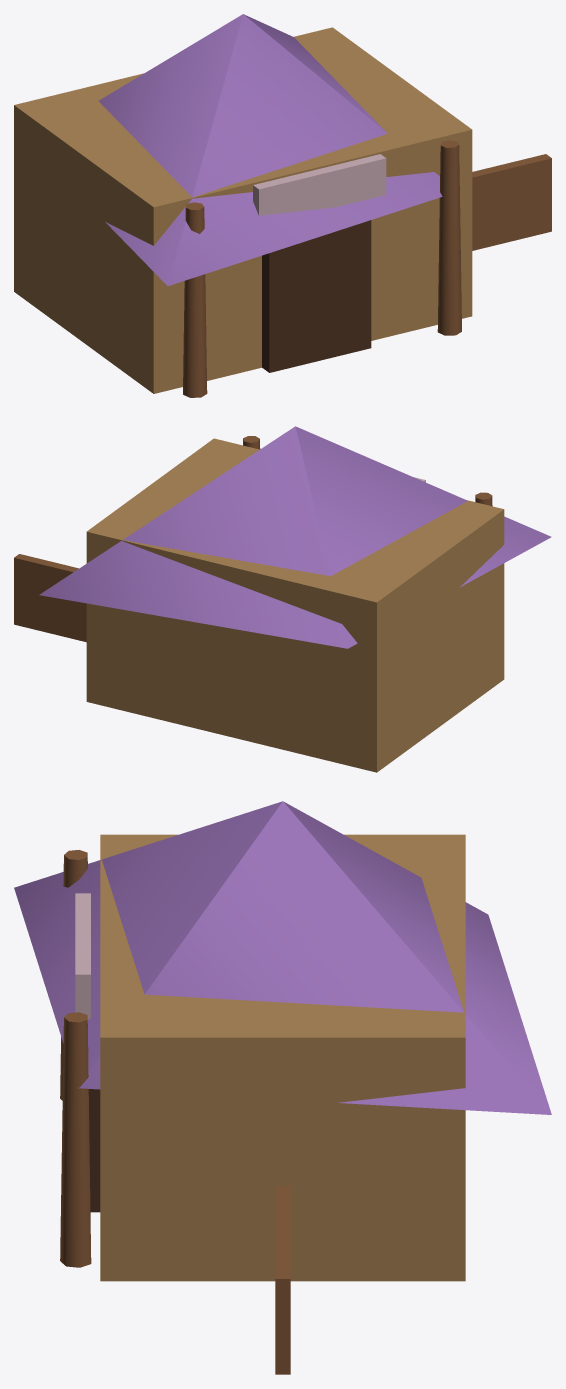
The model's file is cow_shed.glb.
3 renders of one model, top to bottom at view 1: azimuth 30°, elevation 25°; view 2: azimuth 150°, elevation 25°; view 3: azimuth 270°, elevation 25°, orthographic. The views are drawn at different scales.
Parts seen in each view (by area): view 1: shed_body, shed_roof, opening, side_fence, name_board, post_2, post_-2; view 2: shed_body, shed_roof, side_fence; view 3: shed_body, shed_roof, post_2, side_fence, name_board, opening, post_-2.
Part boxes in pixels (x1,y1,x2,y2): shed_body: (14, 27, 472, 393); shed_roof: (99, 14, 442, 285); opening: (262, 220, 371, 372); side_fence: (472, 154, 551, 250); name_board: (253, 154, 386, 215); post_2: (437, 140, 461, 335); post_-2: (183, 202, 207, 397); shed_body: (86, 438, 504, 772); shed_roof: (39, 426, 551, 648); side_fence: (14, 554, 86, 642); shed_body: (100, 834, 465, 1281); shed_roof: (14, 801, 551, 1114); post_2: (60, 1012, 91, 1267); side_fence: (275, 1185, 290, 1374); name_board: (75, 893, 90, 1020); opening: (88, 1089, 100, 1212); post_-2: (60, 850, 87, 1100).
Size of what is drawn, in the model's own units: 7.6 by 4.35 by 5.6.
